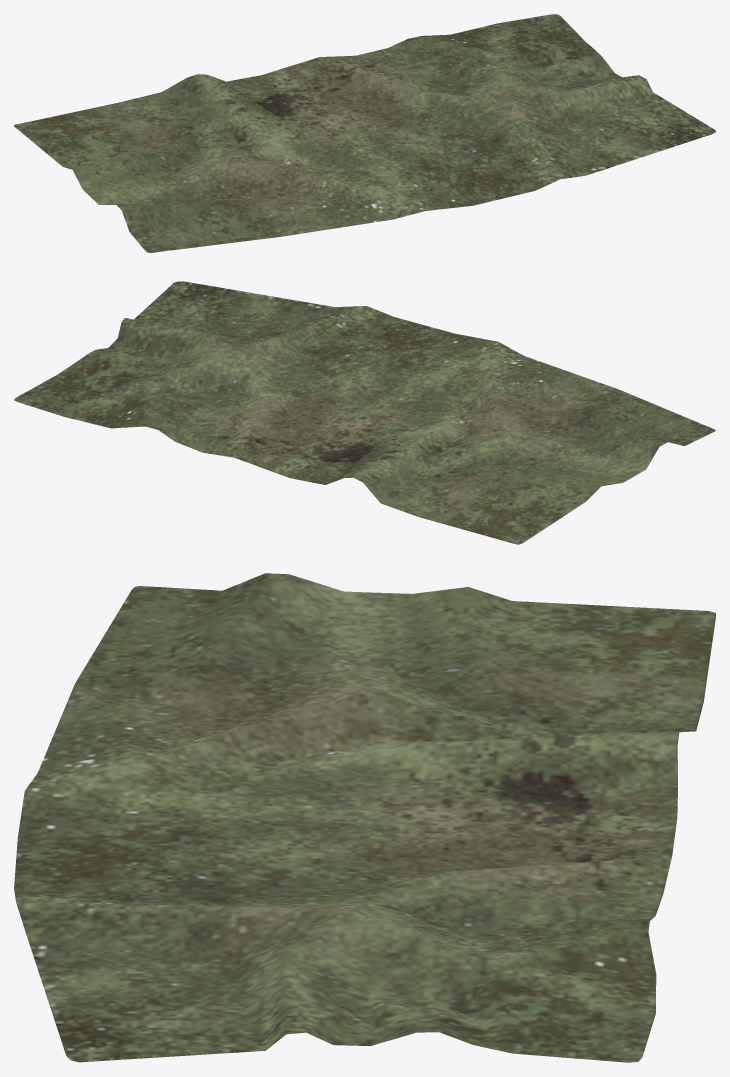
Rendered from 081_ShowerMat.fbx.
3 renders of one model, top to bottom at view 1: azimuth 30°, elevation 25°; view 2: azimuth 150°, elevation 25°; view 3: azimuth 270°, elevation 25°, orthographic. The views are drawn at different scales.
Visible parts, largest first — view 1: LOD_1_Group_0_Sub_1__sm30_081_ShowerMat01A_A_Mat; view 2: LOD_1_Group_0_Sub_1__sm30_081_ShowerMat01A_A_Mat; view 3: LOD_1_Group_0_Sub_1__sm30_081_ShowerMat01A_A_Mat.
Boxes of the visible parts, bbox=[...] form: LOD_1_Group_0_Sub_1__sm30_081_ShowerMat01A_A_Mat: bbox=[14, 14, 715, 252]; LOD_1_Group_0_Sub_1__sm30_081_ShowerMat01A_A_Mat: bbox=[14, 281, 715, 544]; LOD_1_Group_0_Sub_1__sm30_081_ShowerMat01A_A_Mat: bbox=[14, 573, 715, 1062].
Bounding box in the file's own units: 1.72 × 0.0598 × 1.07.
